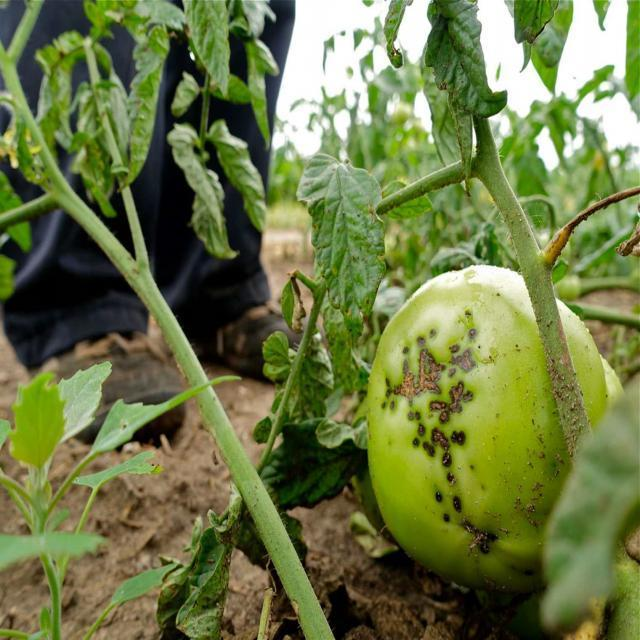Bacterial Spot: (382, 319, 516, 557), (313, 186, 378, 320)
